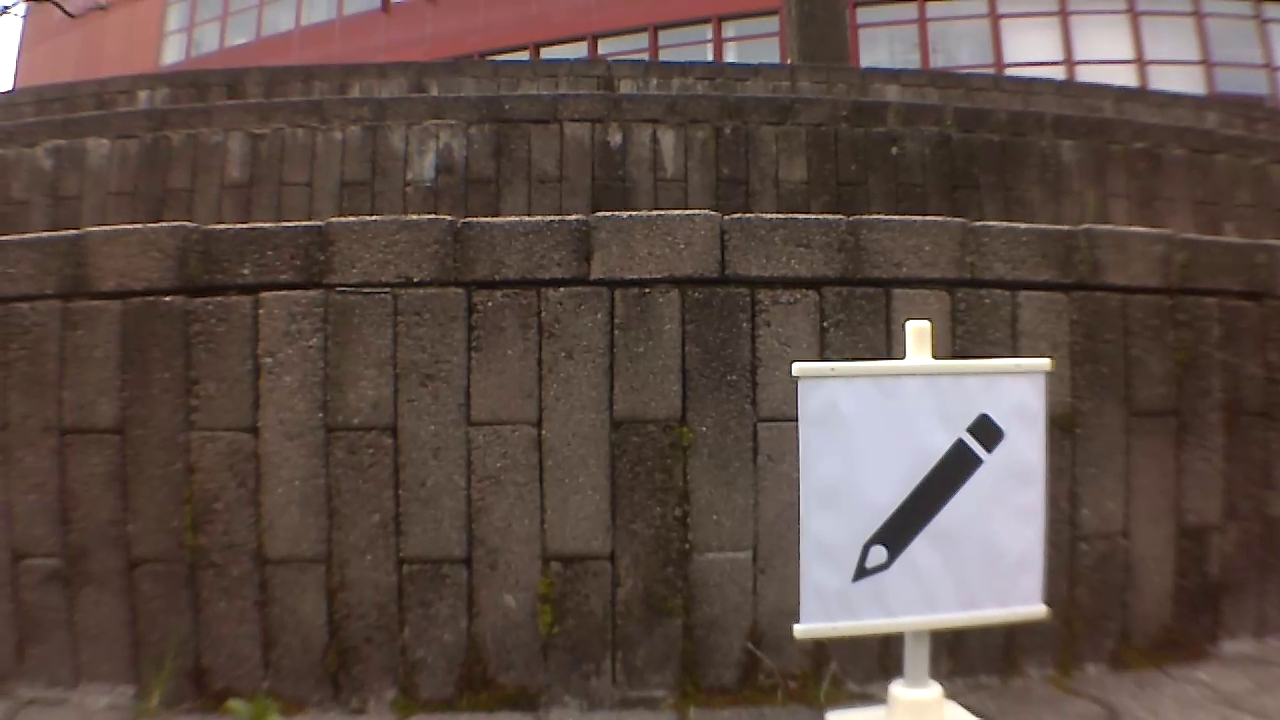pencil: (839, 407, 1018, 590)
